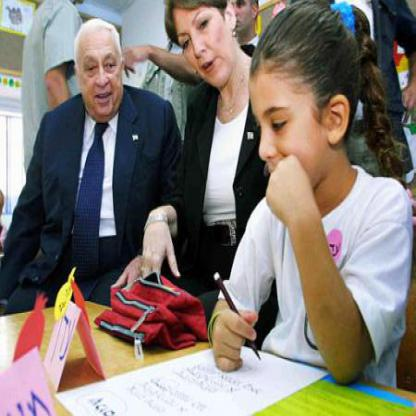face: (247, 27, 328, 203), (180, 1, 231, 94), (79, 21, 125, 120), (230, 1, 255, 34)
